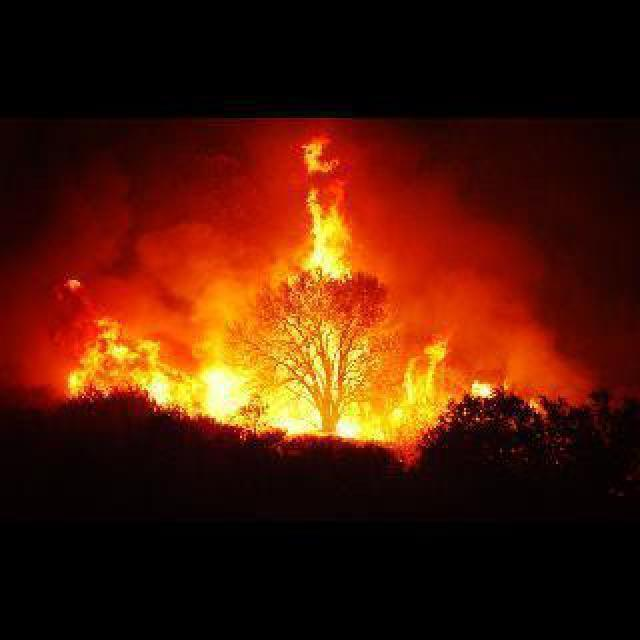Fire: (58, 134, 504, 436)
